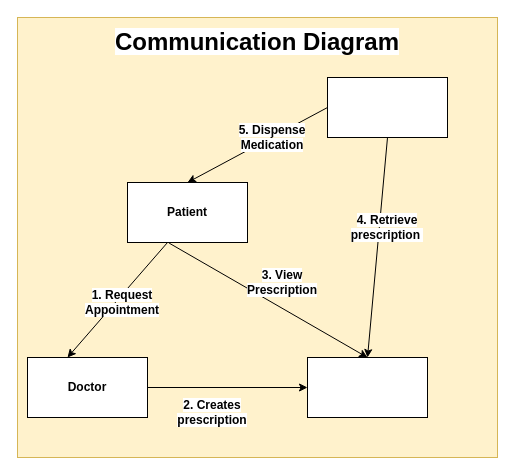
This 515x475 diagram has some shape labels left out. Here are the shapes that lost their labels. From the top down, the box of each, then its label:
(326, 76, 448, 138): Pharmacist
(306, 356, 428, 418): System
